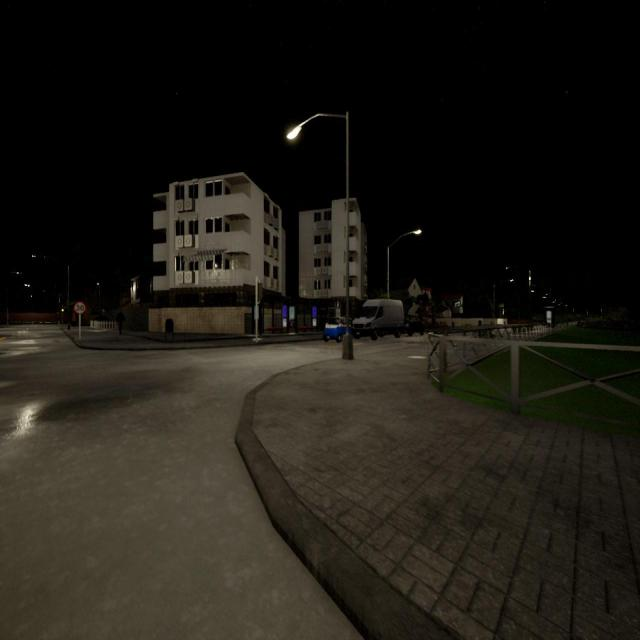Pedestrian: (115, 310, 125, 334)
Traffic_Signs: (73, 302, 85, 314)
Vehicle: (350, 298, 403, 340), (321, 313, 348, 344), (61, 305, 64, 314)
traffic_light: (257, 282, 264, 301)
